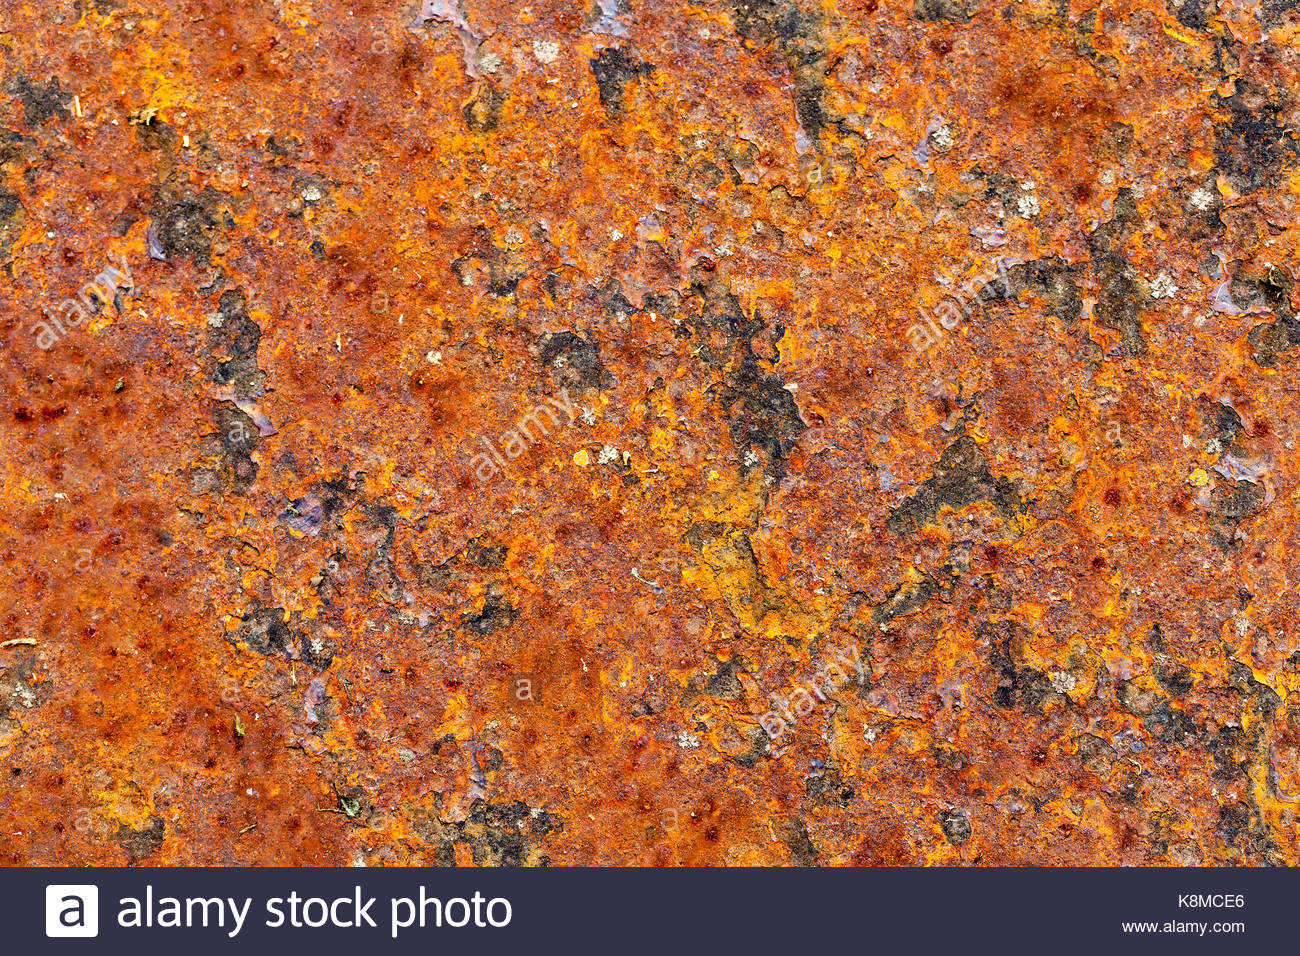rust: (5, 2, 1300, 861)
